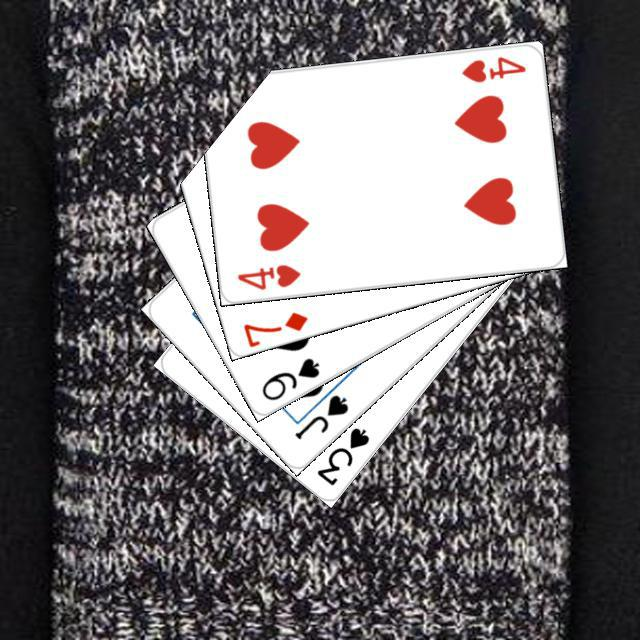3s: (312, 422, 372, 488)
4h: (457, 51, 527, 85), (232, 259, 302, 292)
7d: (238, 307, 310, 347)
9s: (256, 352, 321, 403)
Js: (290, 389, 350, 441)
